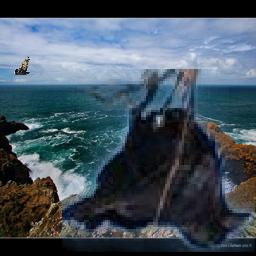Crow: (63, 70, 256, 253), (14, 57, 30, 76)
